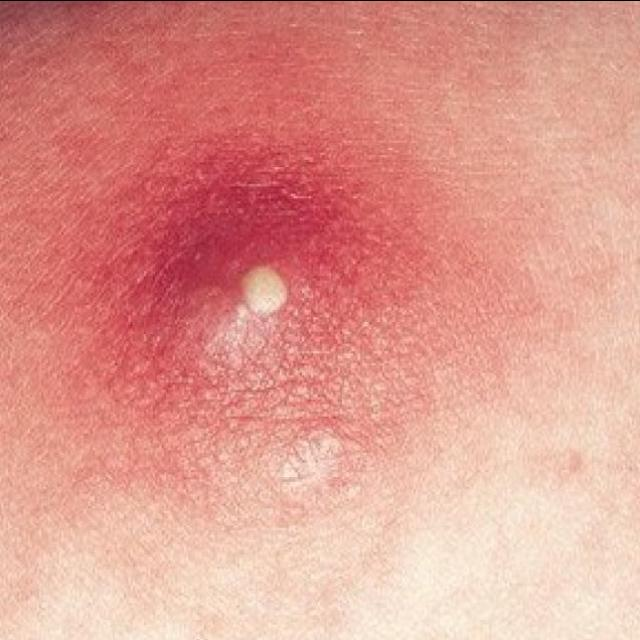pustule: (195, 227, 339, 395)
